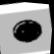correct: (8, 14, 49, 50)
